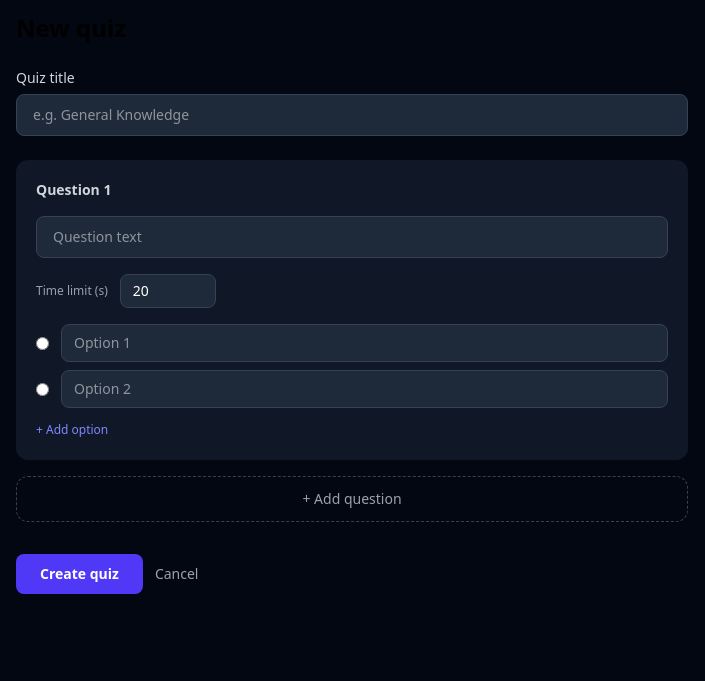
Scenario: QuizFormPage — create mode › shows validation error when no correct option selected
Type "My Quiz" into the field with placeholder "e.g. General Knowledge" at (352, 115), box [16, 94, 688, 136]
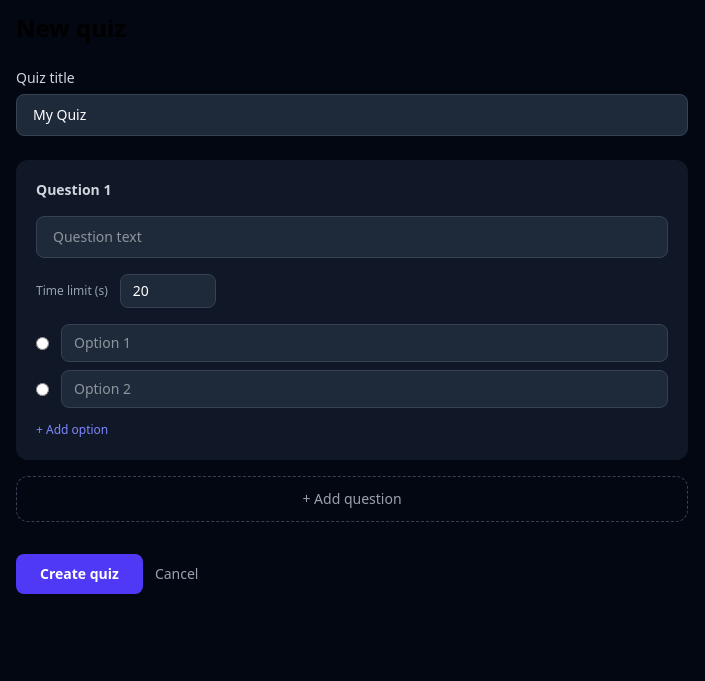
Type "What is 2+2?" into the field with placeholder "Question text" at (352, 237), box [36, 216, 668, 258]
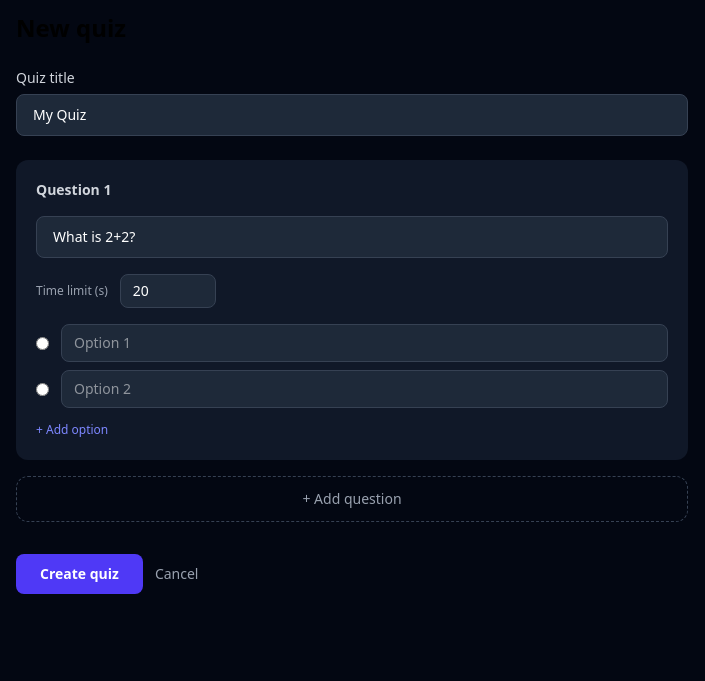
Type "3" into the field with placeholder "Option 1" at (364, 343), box [61, 324, 668, 362]
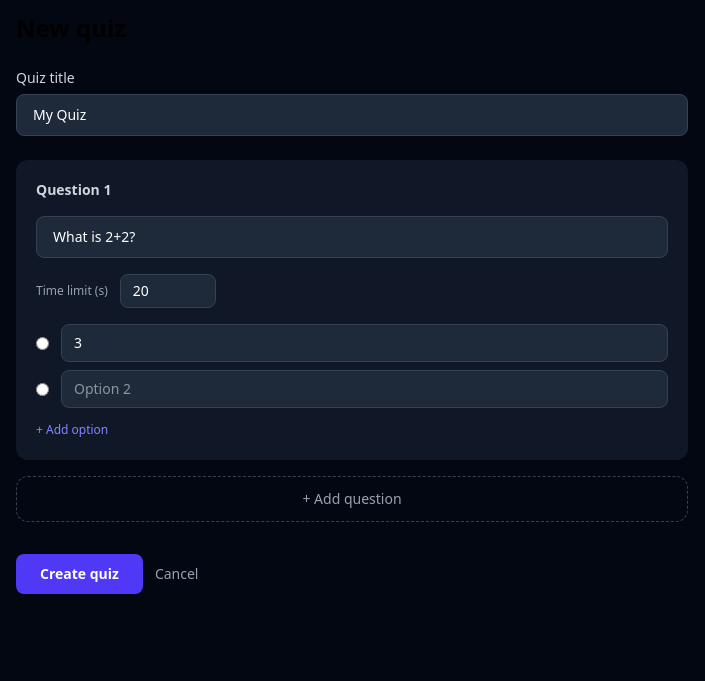
Type "4" into the field with placeholder "Option 2" at (364, 389), box [61, 370, 668, 408]
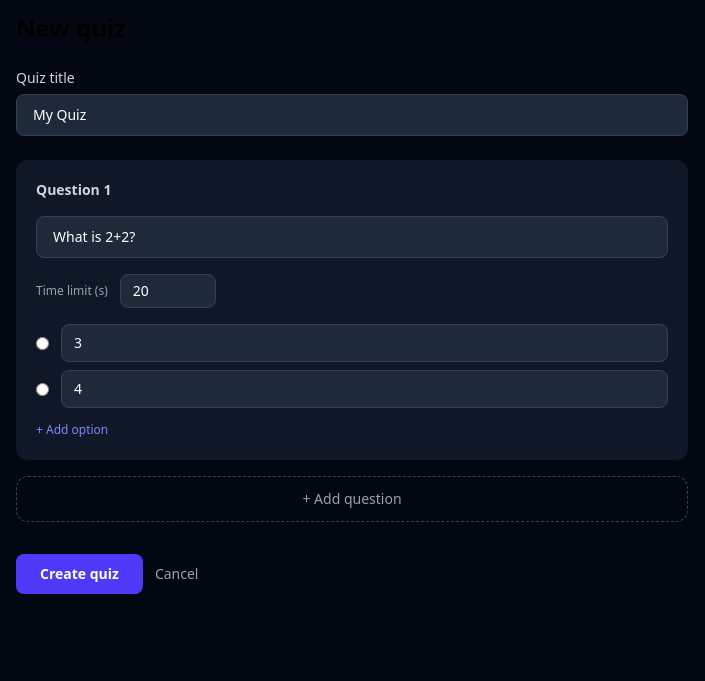
Click the button "Create quiz" at (79, 574), box [16, 554, 143, 594]
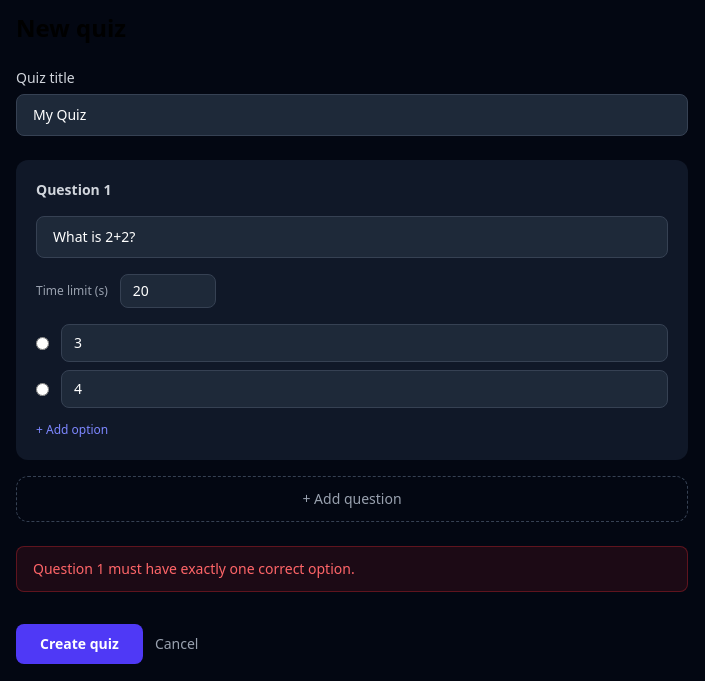
Expected: the text "Question 1 must have exactly one correct option." is shown, [16, 546, 688, 592]
